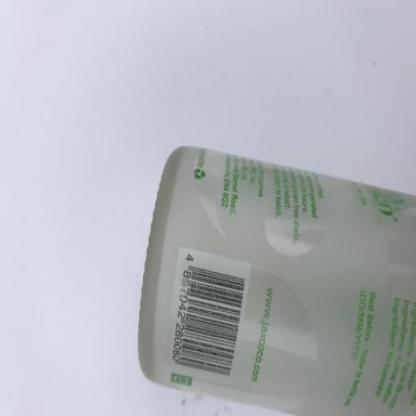trash: (137, 141, 415, 414)
